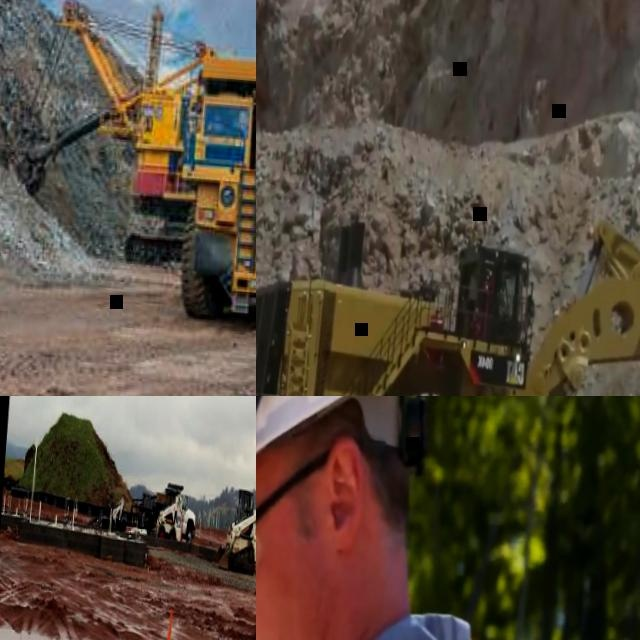Hardhat: (256, 396, 447, 546)
NO-Mask: (256, 579, 326, 640)
Person: (256, 396, 552, 640)
machinery: (256, 96, 640, 396), (0, 0, 216, 269), (167, 39, 256, 333), (127, 478, 198, 539), (209, 485, 256, 573), (153, 491, 184, 541)
